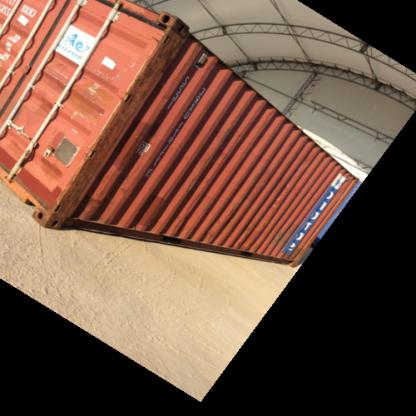Damage: (121, 30, 179, 120), (45, 150, 87, 226), (176, 190, 200, 226), (272, 178, 290, 210), (235, 122, 247, 146), (208, 224, 220, 248), (202, 148, 215, 164)
